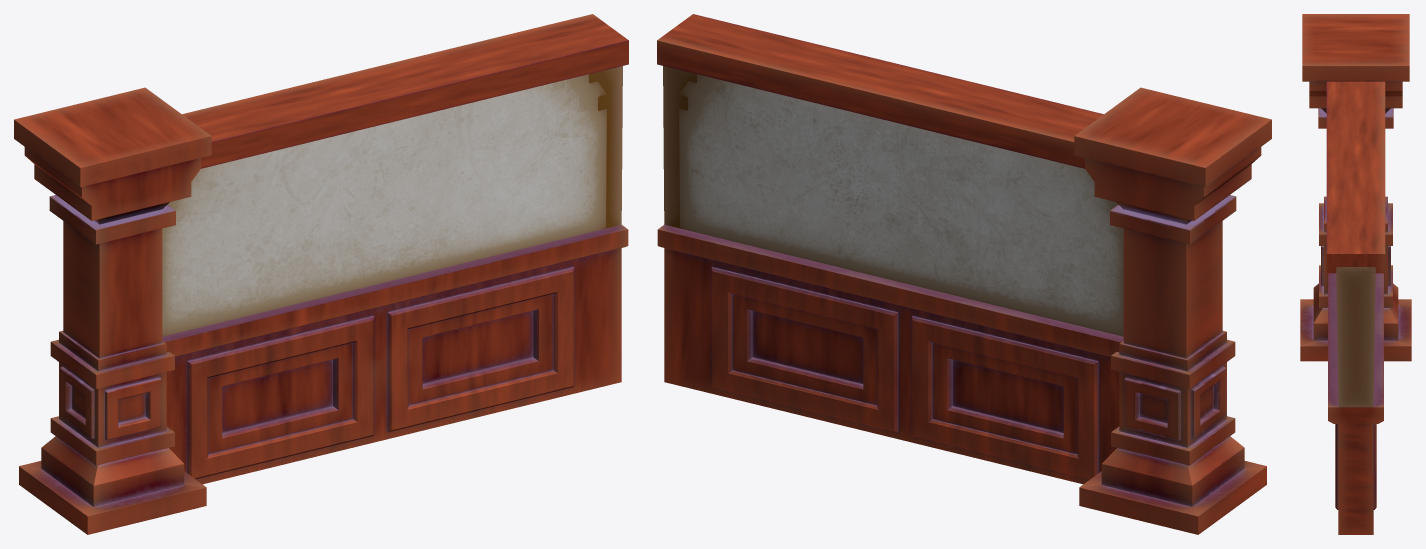
File: wall_lvl2_marble_one_columne.fbx
3 views of the same model, side by side, from view 1: azimuth 30°, elevation 25°; view 2: azimuth 150°, elevation 25°; view 3: azimuth 270°, elevation 25° (orthographic). The views are drawn at different scales.
Parts seen in each view (by area): view 1: wall_lvl2_marble_one_columne; view 2: wall_lvl2_marble_one_columne; view 3: wall_lvl2_marble_one_columne.
Part boxes in pixels (bbox=[...]): wall_lvl2_marble_one_columne: bbox=[14, 14, 628, 534]; wall_lvl2_marble_one_columne: bbox=[657, 14, 1271, 534]; wall_lvl2_marble_one_columne: bbox=[1300, 14, 1411, 534].
Size of the model in its own units: 1148 by 716 by 243.
